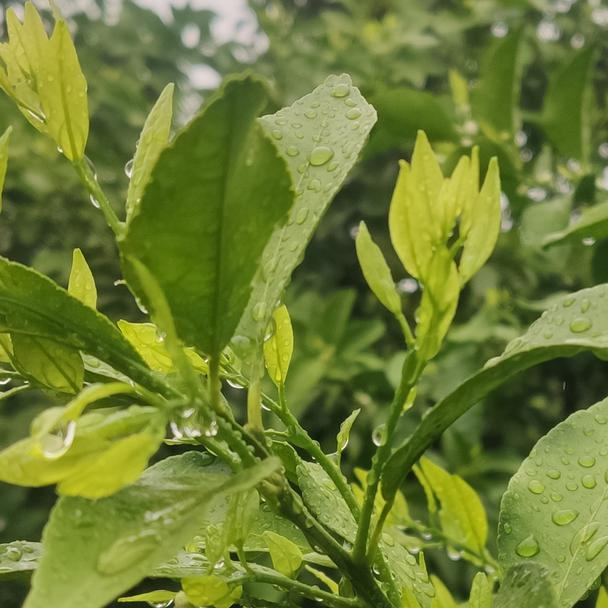shoot: (382, 122, 507, 322), (2, 16, 105, 178)
